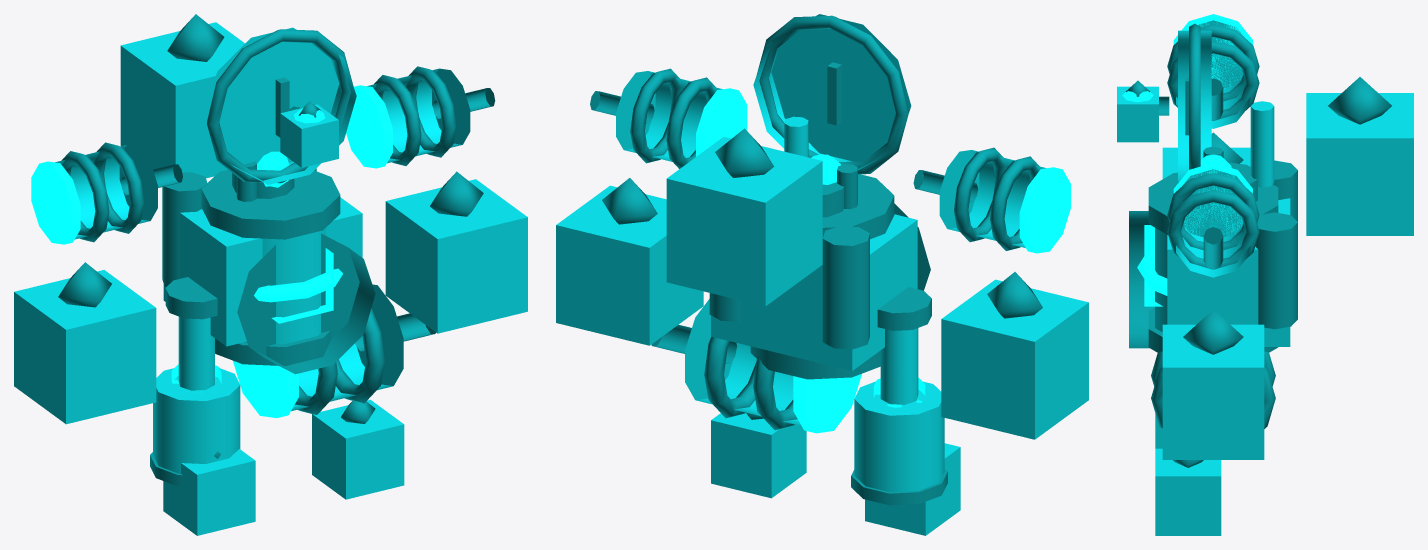
The model's file is golem_102.glb.
The picture shows the model from 3 angles, left to right: view 1: azimuth 30°, elevation 25°; view 2: azimuth 150°, elevation 25°; view 3: azimuth 270°, elevation 25°; orthographic projection. The views are drawn at different scales.
Parts seen in each view (by area): view 1: Body, Detail, Glow; view 2: Body, Detail, Glow; view 3: Body, Detail, Glow.
Boxes of the visible parts, x1=… form: Body: x1=14, y1=22, x2=527, y2=535; Detail: x1=58, y1=14, x2=495, y2=486; Glow: x1=31, y1=85, x2=392, y2=418; Body: x1=556, y1=14, x2=1088, y2=535; Detail: x1=590, y1=15, x2=1042, y2=505; Glow: x1=696, y1=88, x2=1070, y2=433; Body: x1=1117, y1=20, x2=1413, y2=535; Detail: x1=1125, y1=23, x2=1391, y2=467; Glow: x1=1122, y1=14, x2=1252, y2=306.
Bounding box in the file's own units: 1.57 × 1.51 × 0.8928.
